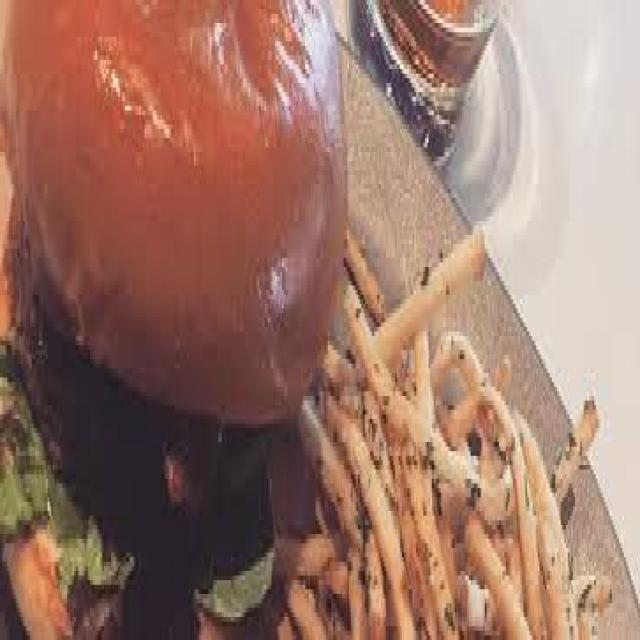Burger: (0, 0, 330, 640)
French Fries: (279, 208, 617, 636)
